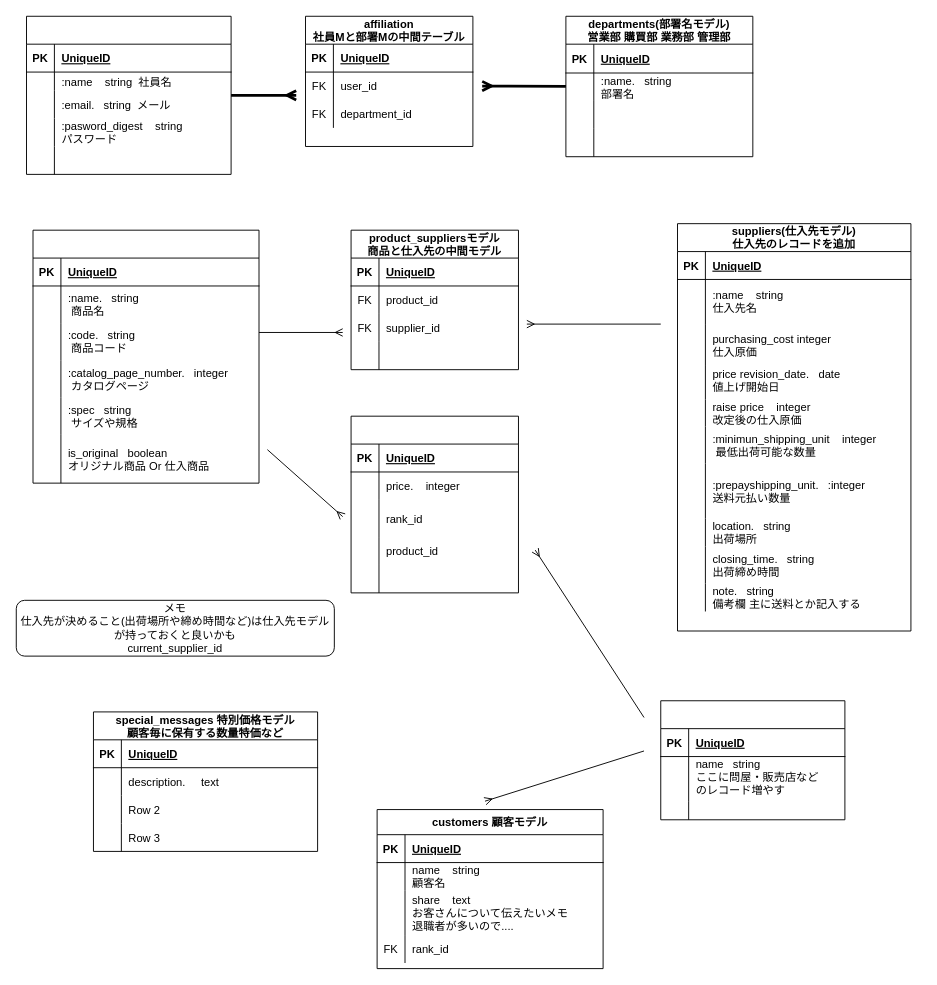
The diagram is 937 pixels wide and 985 high, and some of its shapes have lost their labels. The shapes that lost their labels are listed below. From the top down, each one's box as (x1, y1, x2, y2) in pixels, then its label:
(26, 15, 231, 174): users(社員モデル)
(32, 229, 259, 483): products(商品モデル) 商品そのもののレコードを追加する
(350, 415, 518, 593): prices (商品に4つの価格帯のモデル)
(660, 700, 845, 820): ranks ランクモデル 問屋〜末端のレコード
